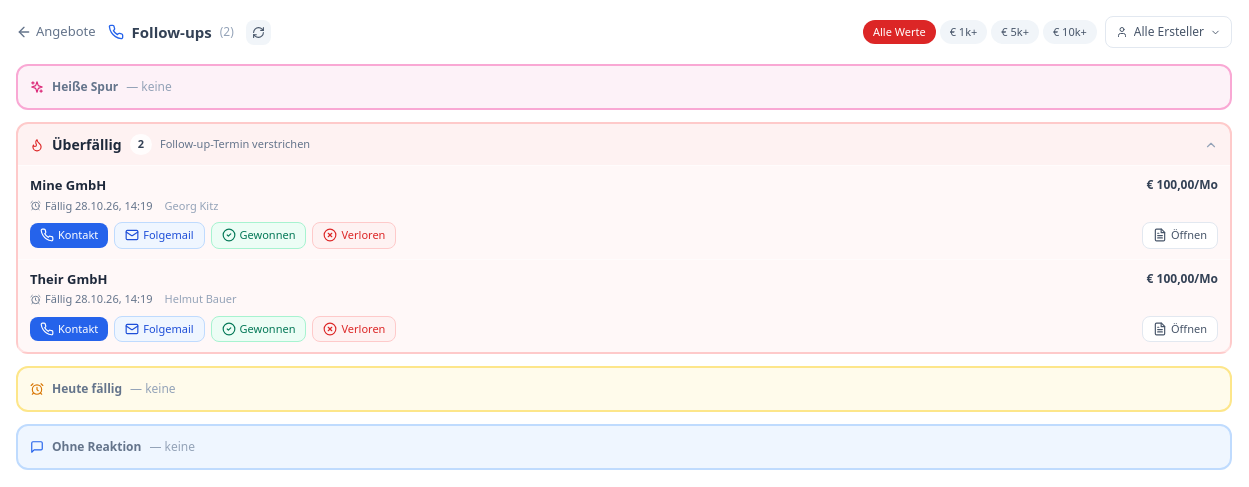
Test: FollowUpsPage › creator filter narrows the buckets to one rep
The image size is (1249, 487).
expect the text "Mine GmbH" is shown: met, box [30, 176, 106, 196]
expect the text "Their GmbH" is shown: met, box [30, 270, 107, 289]
// Open the creator dropdown and pick a single rep.
Click the button "Alle Ersteller". click: [1168, 32]
box: [1105, 16, 1232, 48]
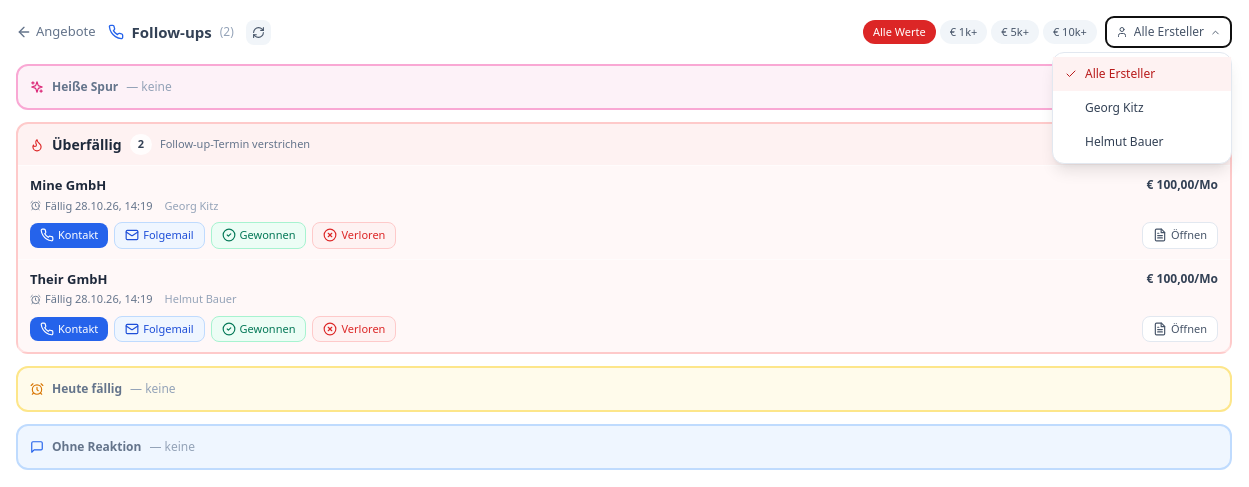
Click the button "Helmut Bauer". click: [1142, 142]
box: [1053, 125, 1231, 159]
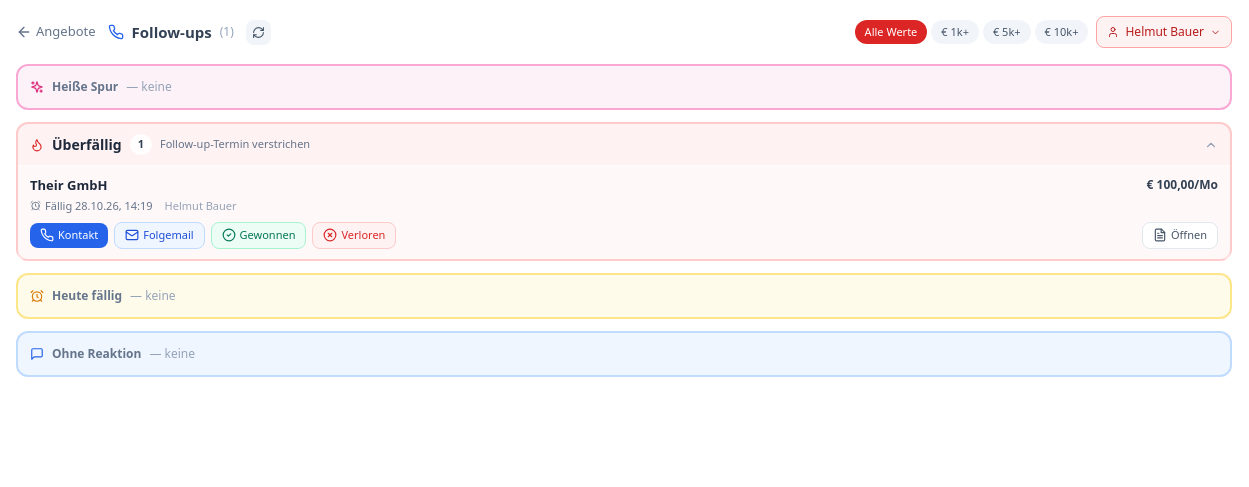
expect the text "Their GmbH" is shown: met, box [30, 176, 107, 196]
expect the text "Mine GmbH" is gone: met
